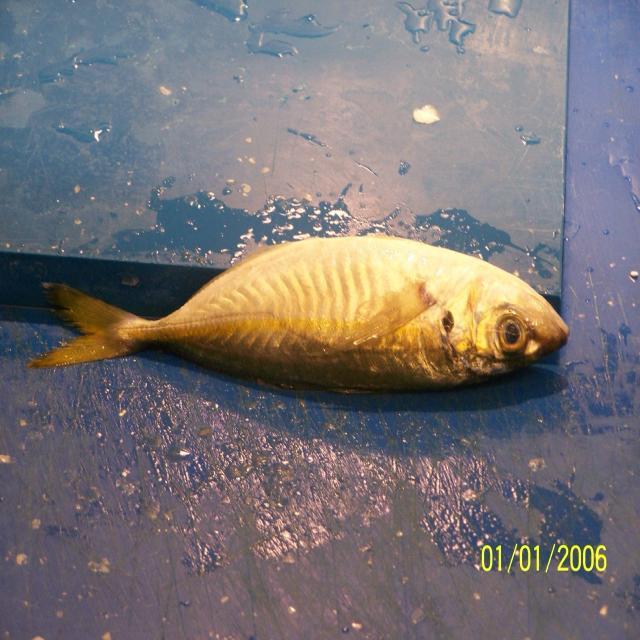Hourse-Mackerel-istavrit-: (28, 235, 570, 393)
